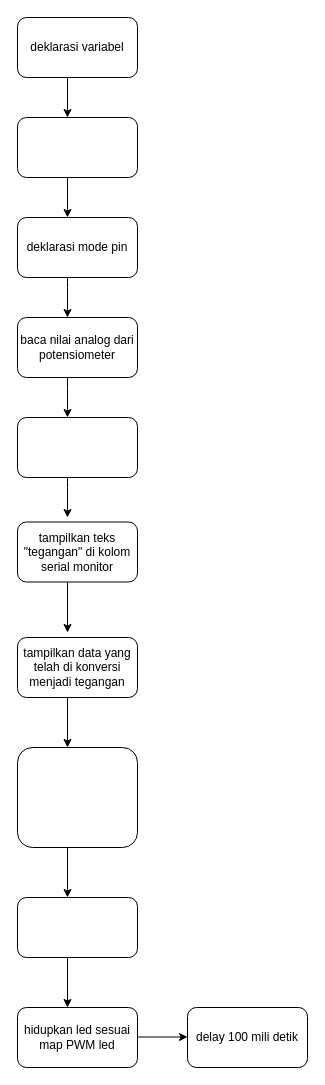
This 325x1085 diagram has some shape labels left out. Here are the shapes that lost their labels. From the top down, the box of each, then its label:
(16, 116, 138, 178): inisialisasi komunikasi serial
(16, 416, 138, 478): konversi data resistansi menjadi tegangan
(16, 746, 138, 848): tampilkan teks "V" dengan menambahkannya line baru di setelahnya
(16, 896, 138, 958): buat map PWM led
